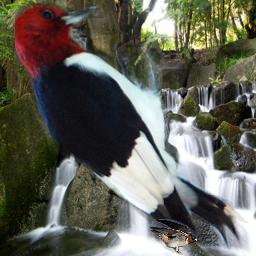Swallow: (150, 219, 197, 255)
Woodpecker: (15, 1, 249, 252)
